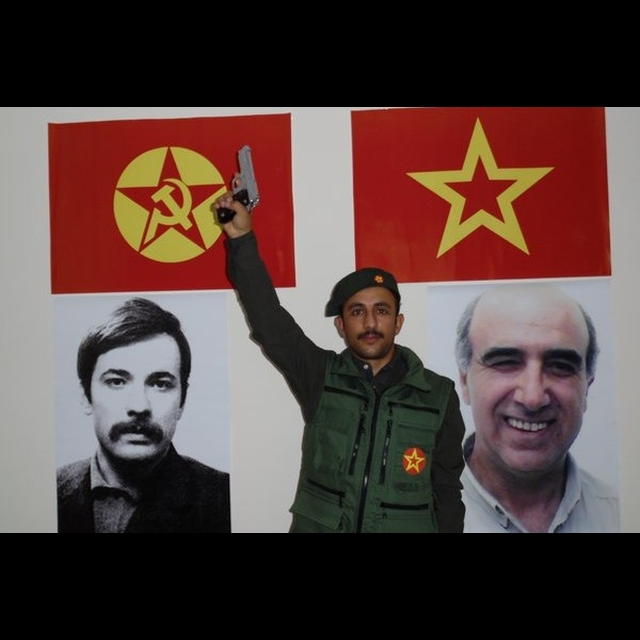DHKPC: (406, 115, 568, 268), (109, 145, 234, 264), (400, 442, 432, 480)
